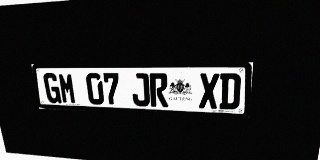0: (85, 73, 104, 105)
7: (102, 73, 121, 105)
D: (219, 73, 241, 110)
G: (43, 73, 62, 103)
J: (131, 73, 150, 106)
M: (58, 73, 77, 104)
R: (149, 73, 168, 107)
X: (199, 73, 219, 109)
